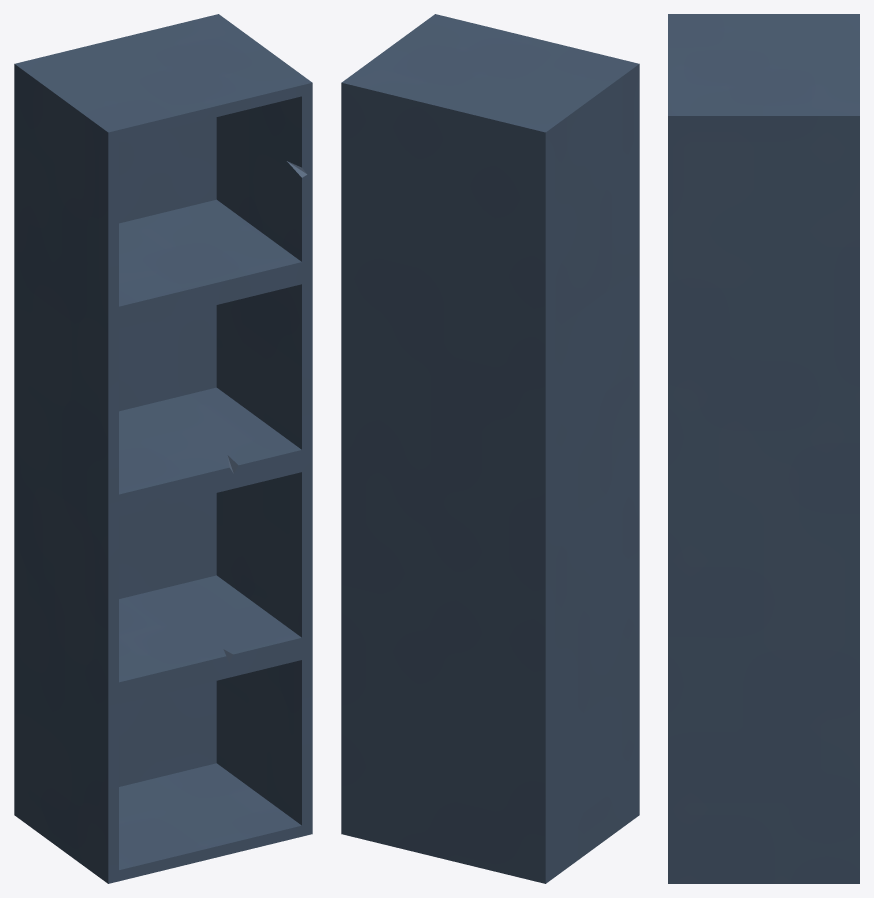
File: Shelf_01_02_Damaged.fbx
3 renders of one model, left to right at view 1: azimuth 30°, elevation 25°; view 2: azimuth 150°, elevation 25°; view 3: azimuth 270°, elevation 25°, orthographic. The views are drawn at different scales.
Visible parts, largest first — view 1: Shelf_01_02_Damaged; view 2: Shelf_01_02_Damaged; view 3: Shelf_01_02_Damaged.
Part boxes in pixels (<box>): Shelf_01_02_Damaged: <box>14,14,312,883</box>; Shelf_01_02_Damaged: <box>341,14,639,883</box>; Shelf_01_02_Damaged: <box>668,14,859,883</box>.
Size of the model in its own units: 0.4966 by 1.75 by 0.3952.
